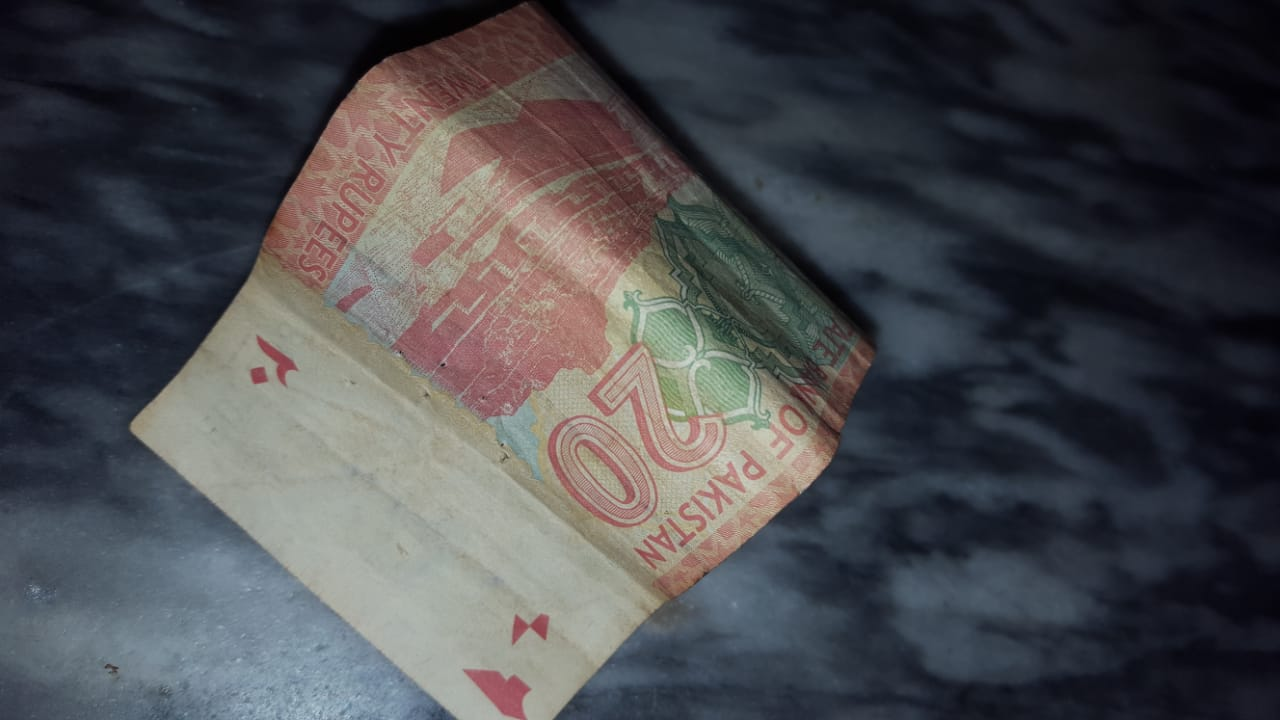20 rupee: (93, 41, 957, 719)
